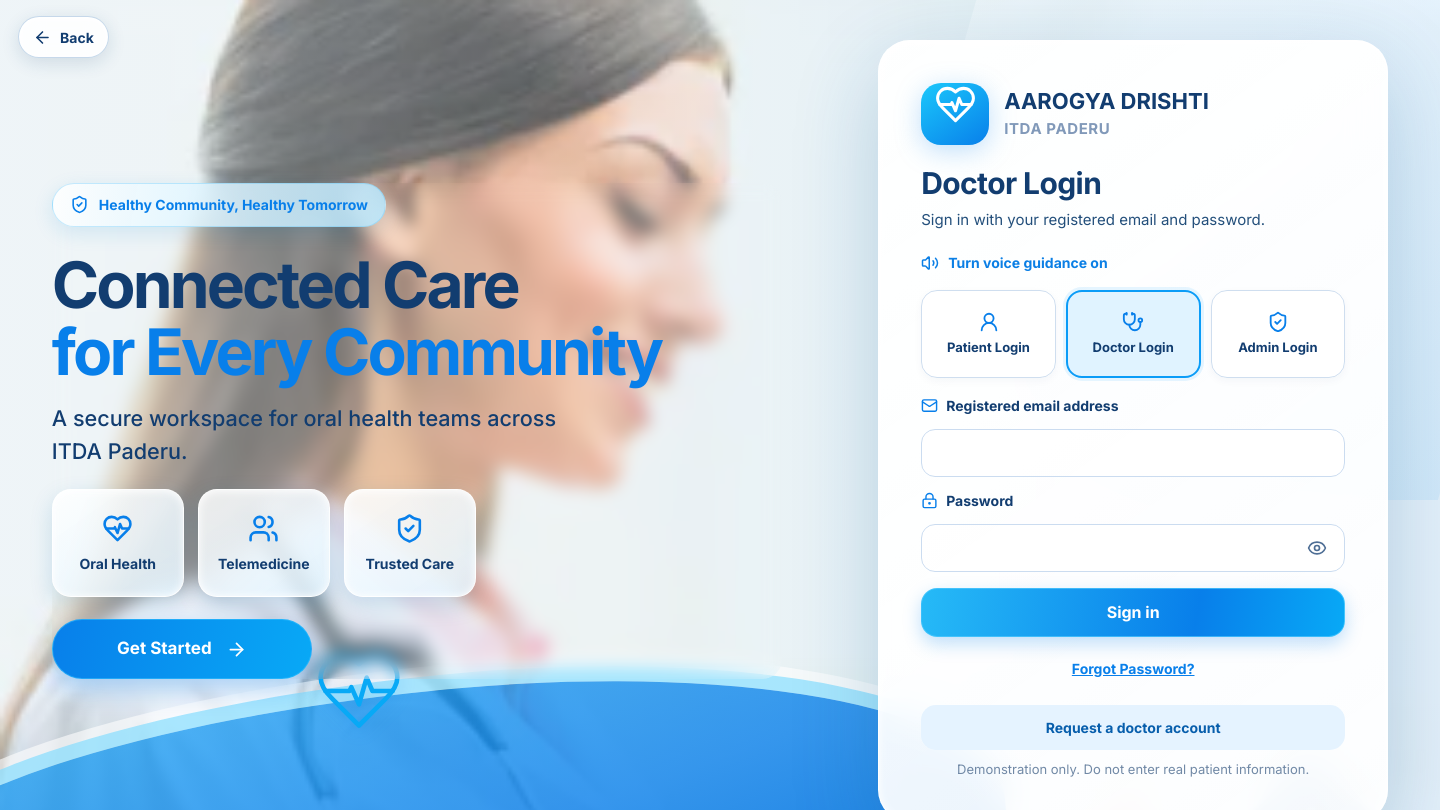
Test: application authentication and role routes › renders patient, doctor, and admin sign-in options for anonymous users
The image size is (1440, 810).
Expected: the heading "Doctor Login" is shown, 921,165 -> 1101,201
Expected: the field labelled "Registered email address" is shown, 921,428 -> 1345,476
Step 1. Click the button "Patient Login" → [989, 334], box 921,290 -> 1056,378
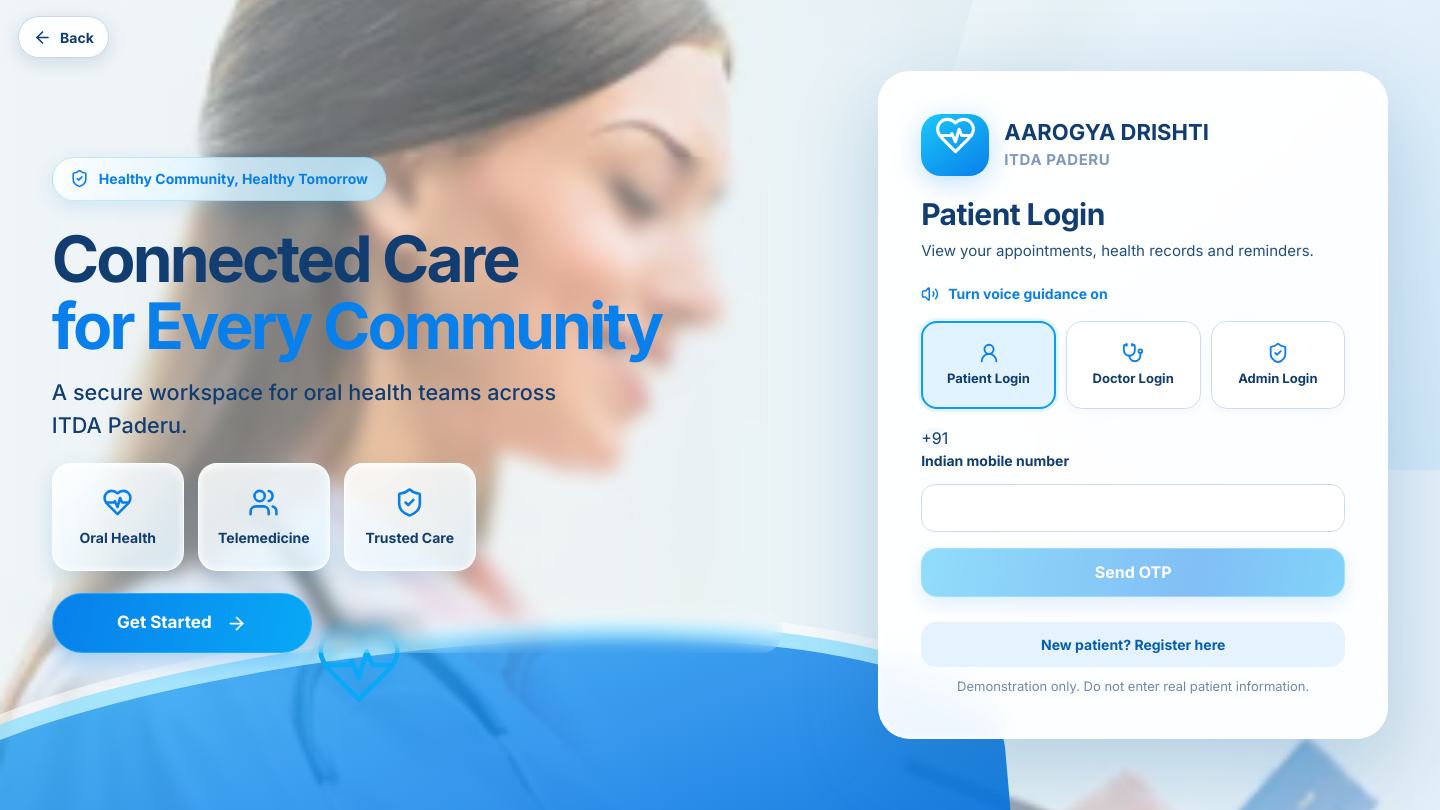
Expected: the field labelled "Indian mobile number" is shown, 921,484 -> 1345,532
Step 2. Click the button "Doctor Login" → [1133, 364], box 1066,320 -> 1200,408
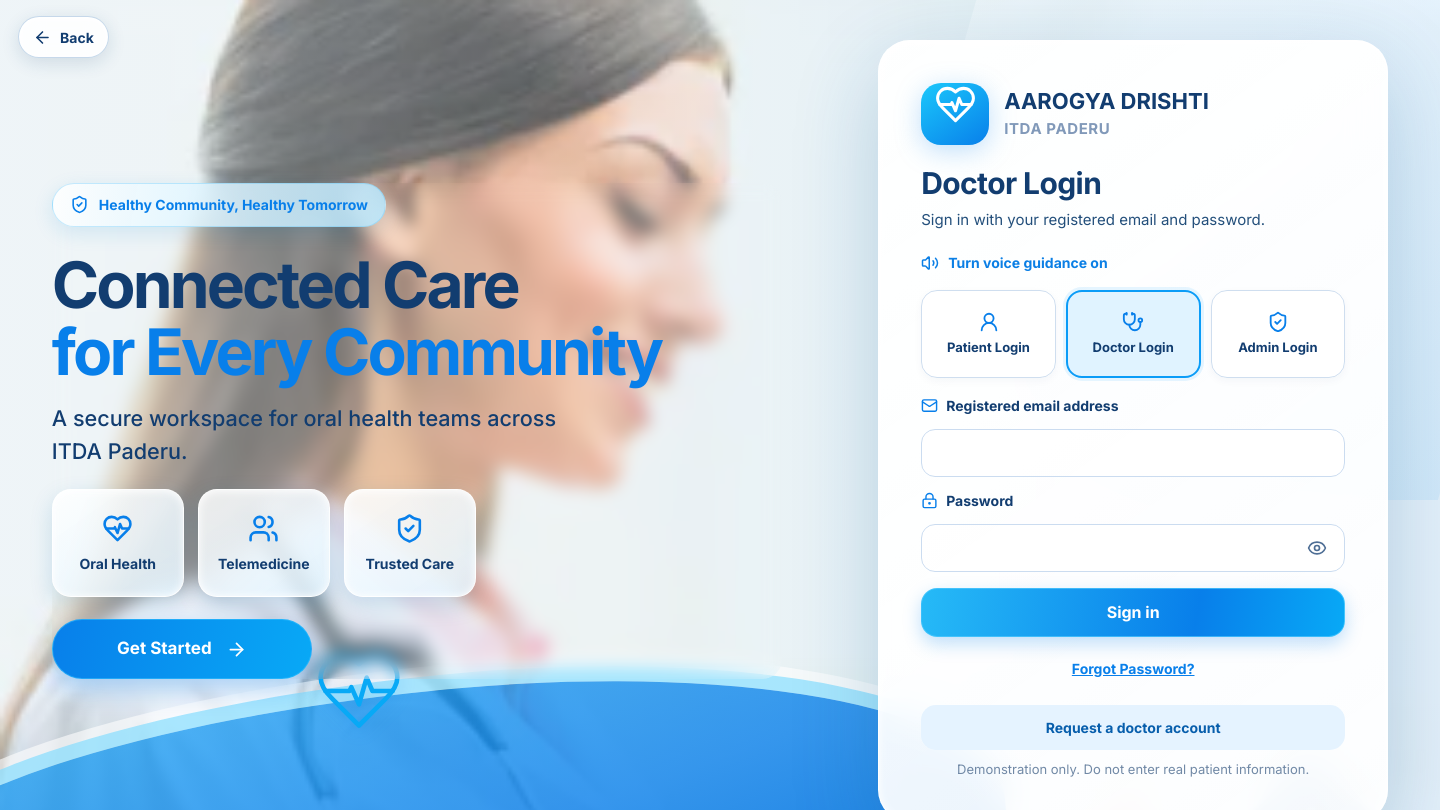
Expected: the button "Doctor Login" is shown, 1066,290 -> 1200,378
Expected: the heading "Doctor Login" is shown, 921,165 -> 1101,201
